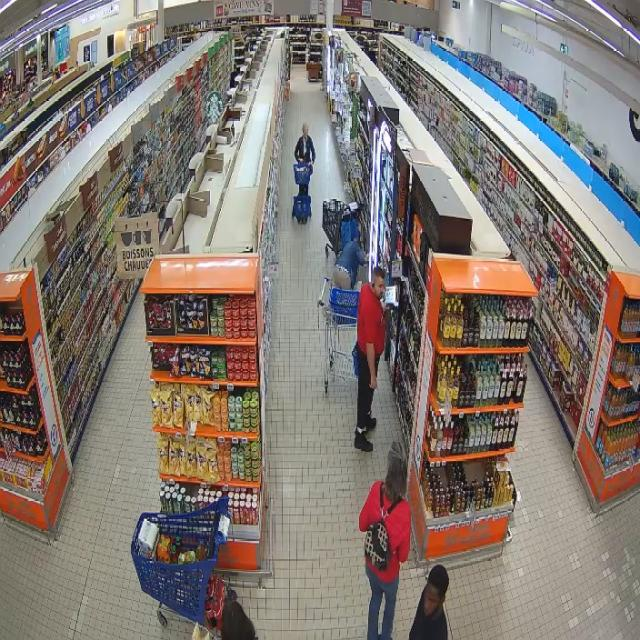bags: (365, 484, 399, 569)
hands: (370, 376, 378, 390), (381, 303, 389, 315), (297, 158, 302, 163), (310, 160, 313, 166)
person: (360, 443, 410, 639), (355, 267, 386, 452), (410, 565, 449, 639), (332, 241, 366, 288), (221, 602, 256, 639), (295, 124, 315, 165)
